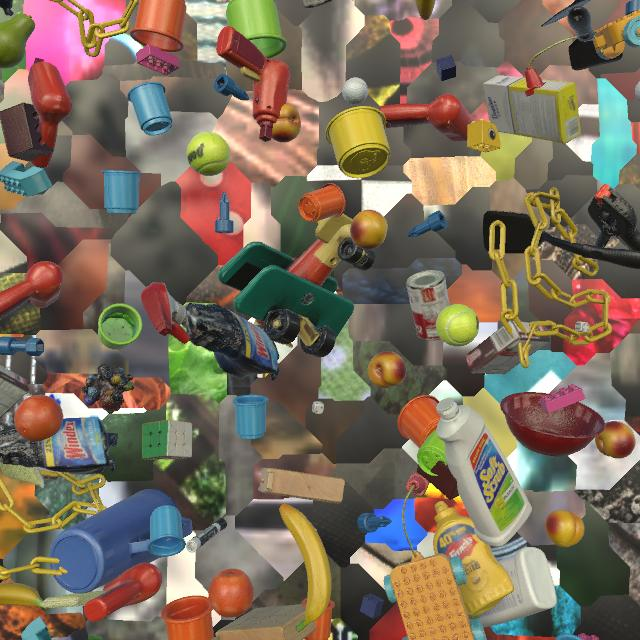ycb_004_sugar_box: (483, 75, 581, 144)
ycb_005_tomato_soup_can: (406, 270, 450, 341), (301, 0, 332, 8)
ycb_006_mustard_bottle: (433, 501, 514, 616)
ycb_008_pudding_box: (464, 320, 551, 374), (0, 365, 30, 418)
ycb_011_banana: (279, 504, 332, 632), (0, 583, 50, 610), (416, 0, 435, 20)
ycb_015_peach: (595, 421, 635, 459), (350, 210, 387, 250), (545, 510, 585, 547), (367, 351, 406, 388), (272, 103, 301, 143)
ycb_016_pear: (0, 13, 35, 69)
ycb_017_orange: (14, 395, 63, 442), (208, 569, 254, 618)
